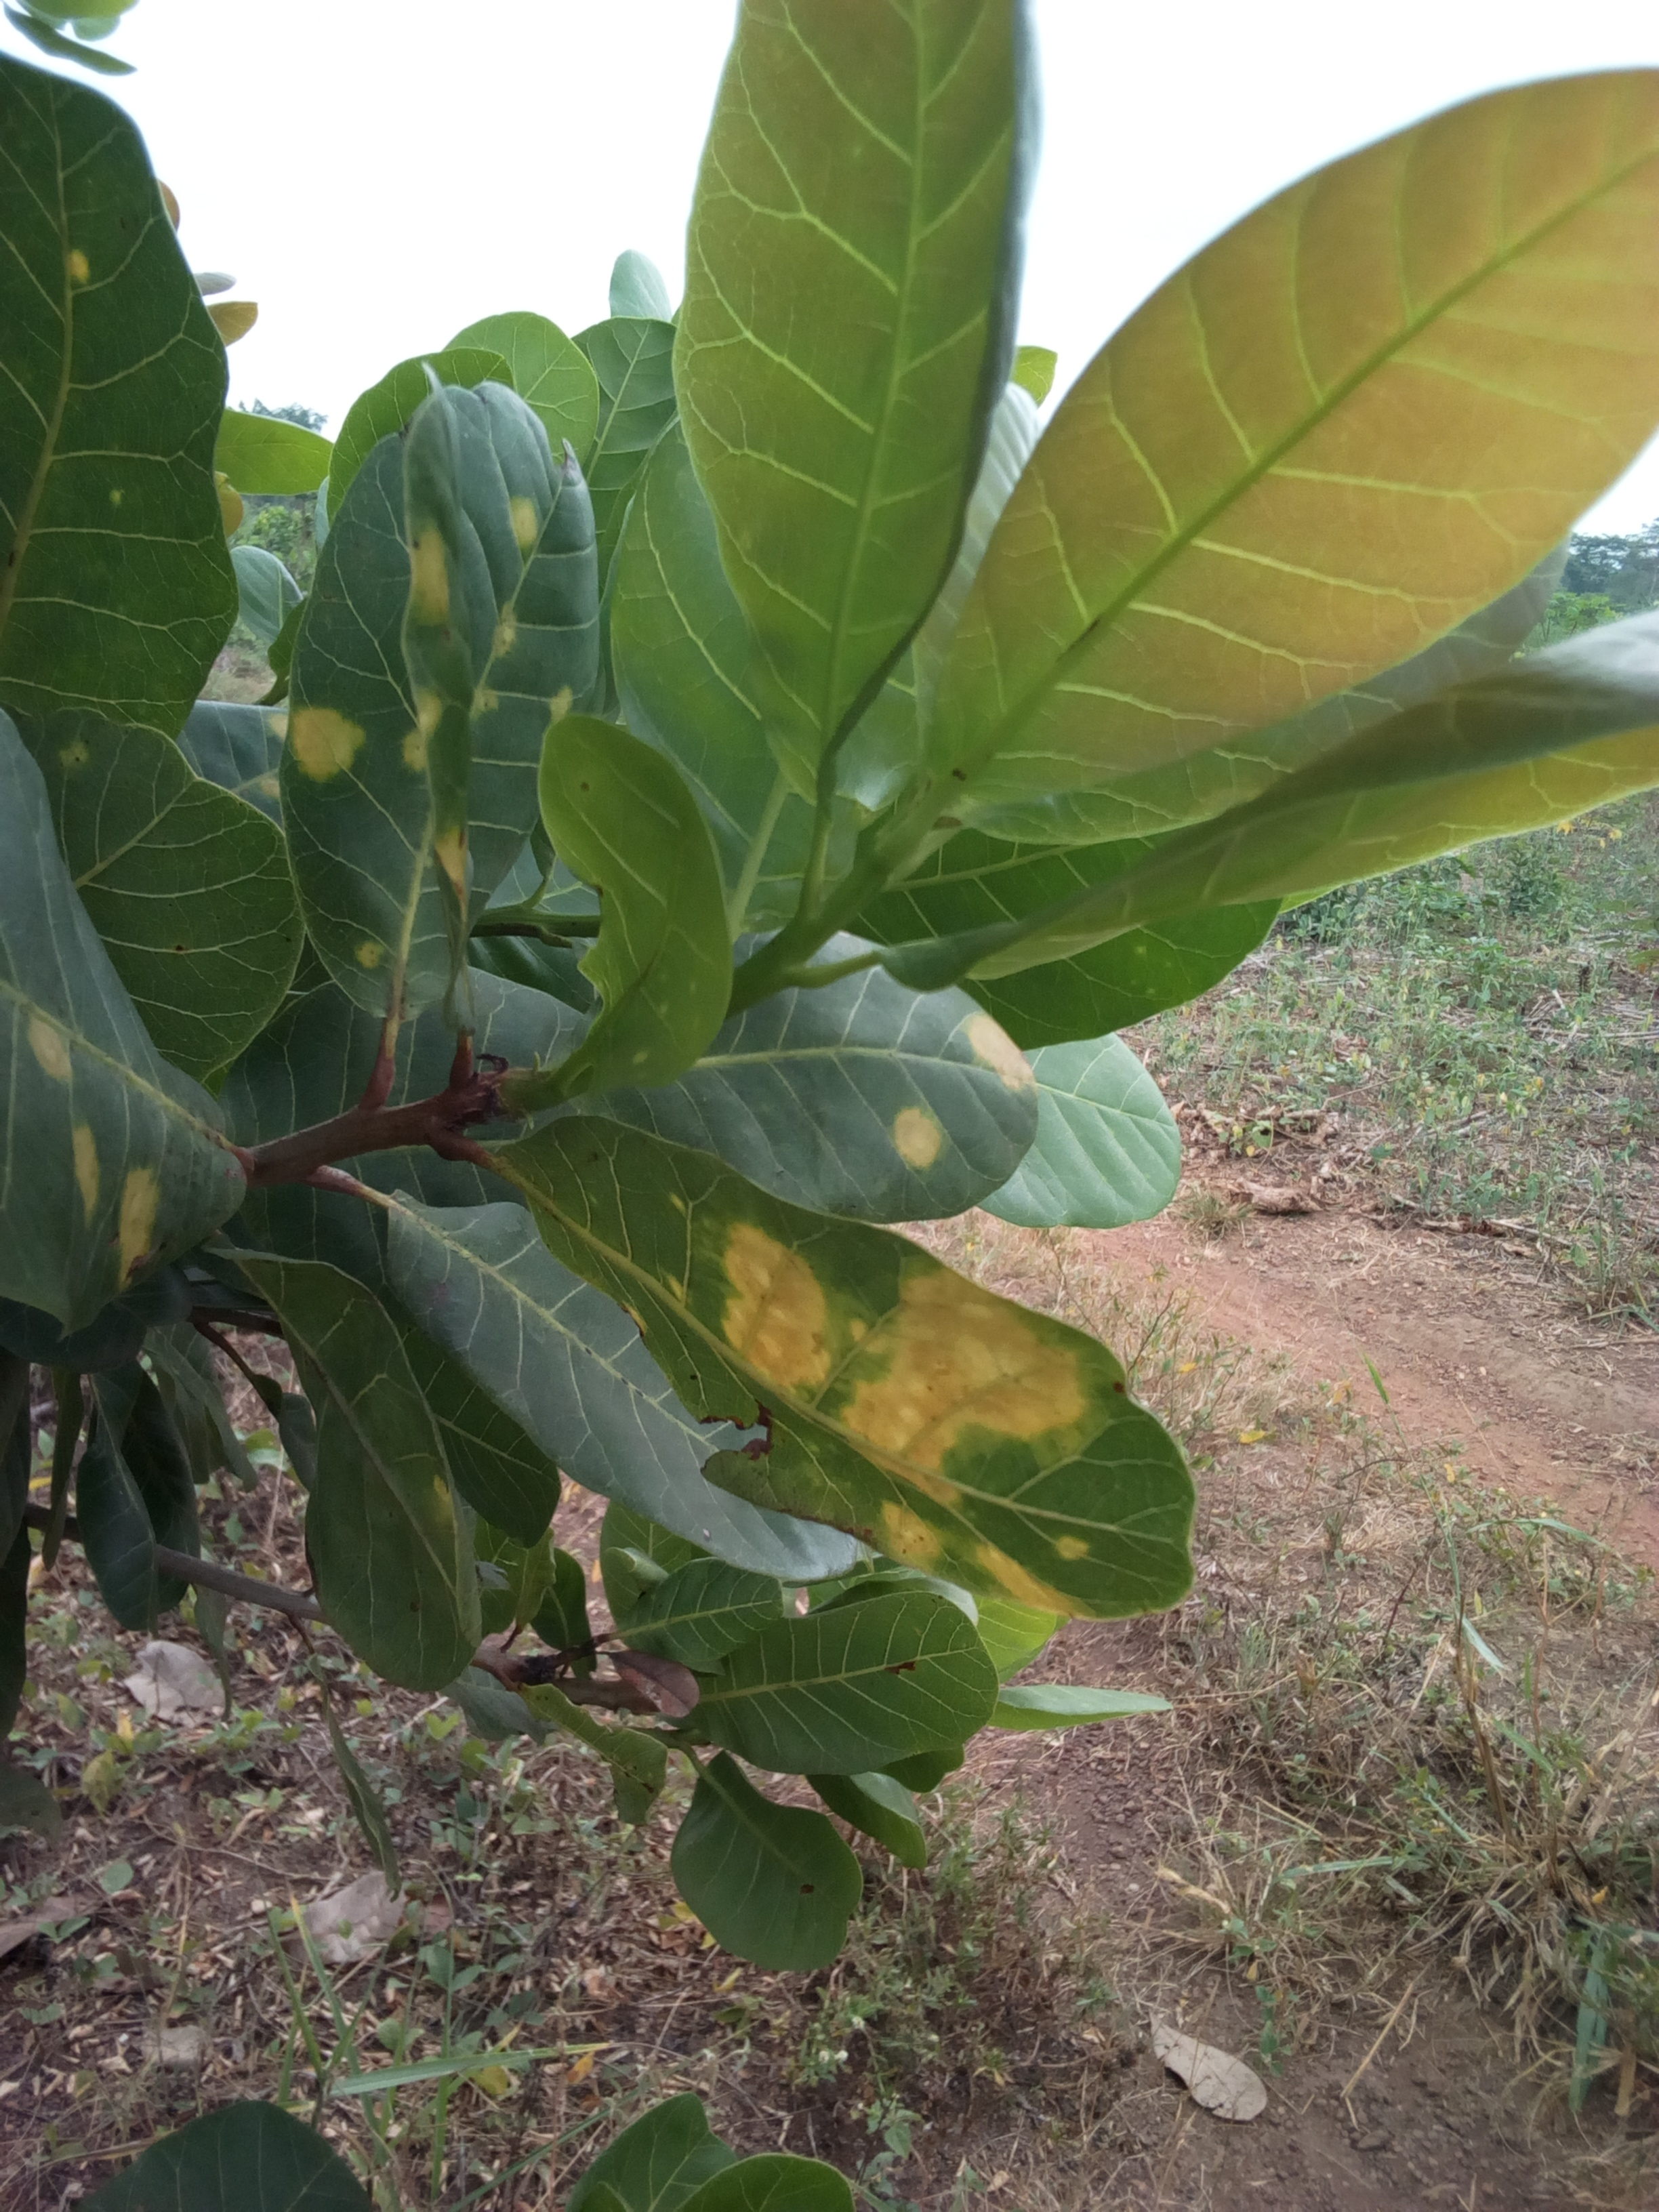Carence minérale: (500, 1103, 1216, 1632), (281, 368, 626, 1014), (3, 712, 256, 1378)
